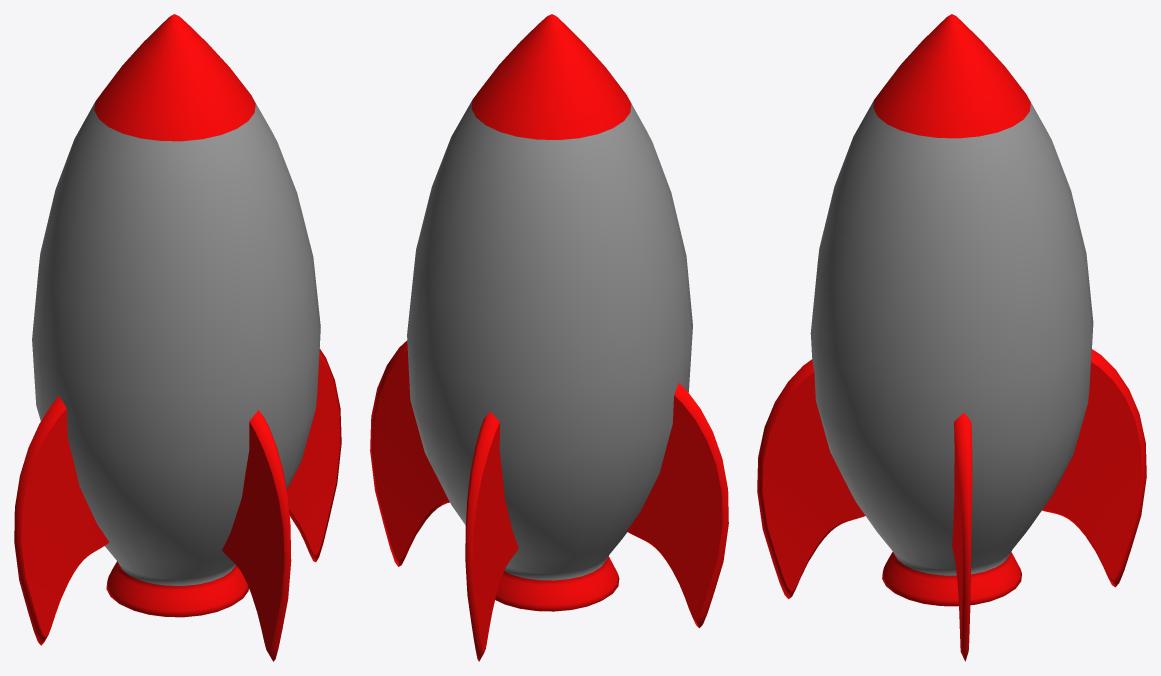
The model's file is RocketWithNewPivot.FBX.
3 views of the same model, side by side, from view 1: azimuth 30°, elevation 25°; view 2: azimuth 150°, elevation 25°; view 3: azimuth 270°, elevation 25° (orthographic). The views are drawn at different scales.
Parts seen in each view (by area): view 1: Rocket; view 2: Rocket; view 3: Rocket.
Boxes of the visible parts, box(x1,y1,x2,y2) form: Rocket: box(14, 14, 341, 661); Rocket: box(370, 14, 728, 661); Rocket: box(757, 14, 1146, 661).
Bounding box in the file's own units: 0.3493 × 0.5727 × 0.3493.
